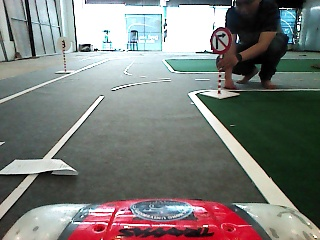ban: (209, 24, 234, 56)
